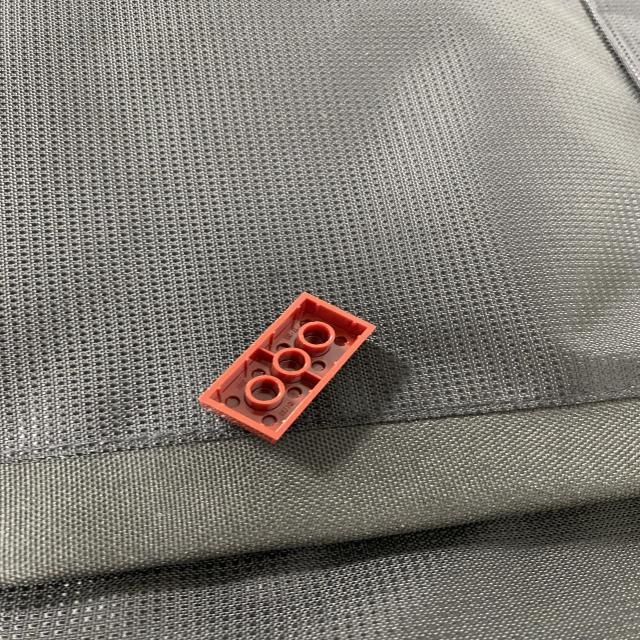C4x2x1: (197, 284, 383, 443)
